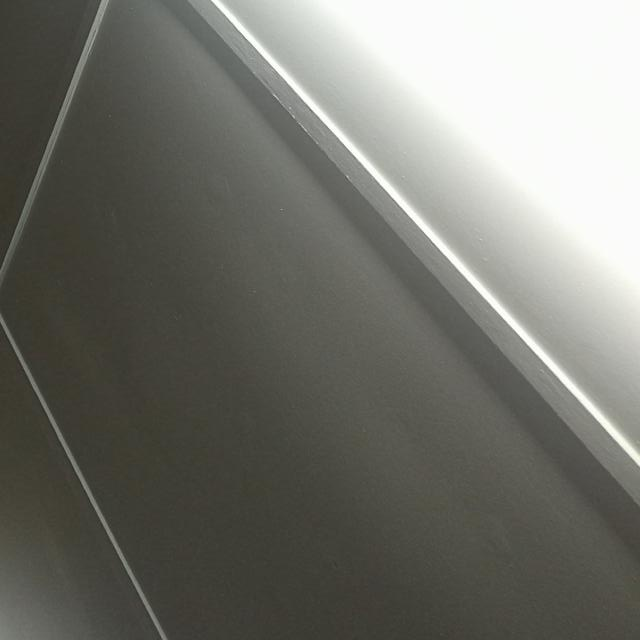fluorescent tube: (139, 0, 640, 355)
